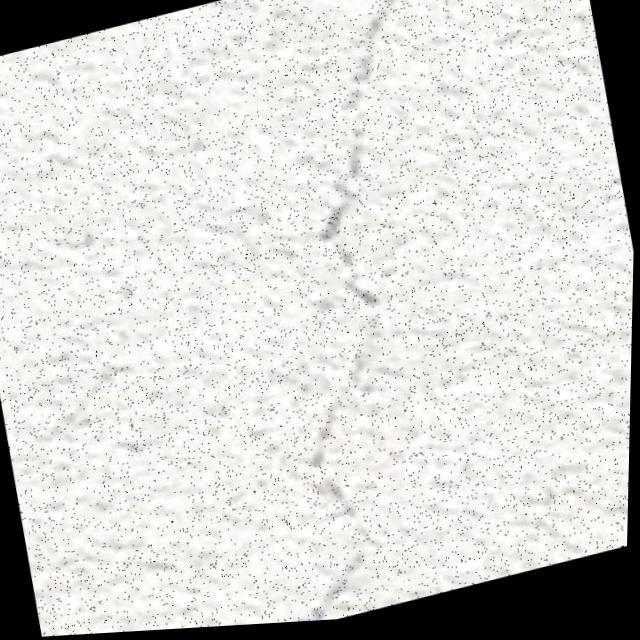Crack: (162, 0, 535, 632)
